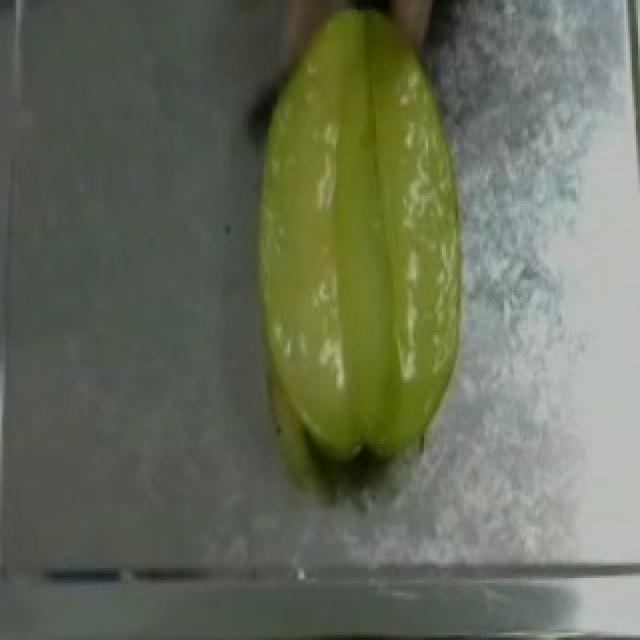fruit: (232, 5, 480, 394)
